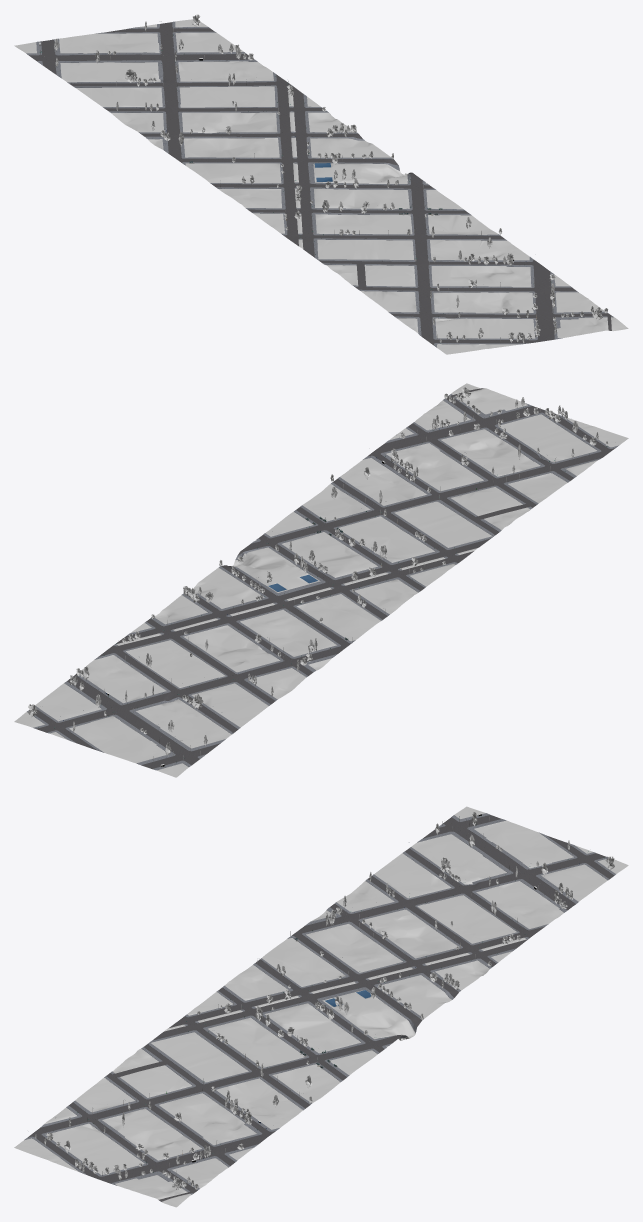
3 renders of one model, top to bottom at view 1: azimuth 30°, elevation 25°; view 2: azimuth 150°, elevation 25°; view 3: azimuth 330°, elevation 25°, orthographic. The views are drawn at different scales.
Visible parts, largest first — view 1: geopipeinodeyQM60rzr, geopipeinodek89Z3X63, geopipeinodeIxYobB8D, geopipeinodeE2gGfxA4, geopipeinodebcKXKWqB, geopipeinodepnH_ruW1, geopipeinodepkhwuyf4, geopipeinodeyndq7rub, geopipeinodemRC6xX7B, geopipeinodeXB7UEeDG, geopipeinodeoWBKhFil, geopipeinodeWr0GgdpH; view 2: geopipeinodek89Z3X63, geopipeinodeE2gGfxA4, geopipeinodeIxYobB8D, geopipeinodeyQM60rzr, geopipeinodebcKXKWqB, geopipeinodepnH_ruW1, geopipeinodepkhwuyf4, geopipeinodeyndq7rub, geopipeinodemRC6xX7B, geopipeinodeoWBKhFil, geopipeinodeWr0GgdpH, geopipeinodeXB7UEeDG; view 3: geopipeinodeIxYobB8D, geopipeinodeyQM60rzr, geopipeinodeE2gGfxA4, geopipeinodek89Z3X63, geopipeinodebcKXKWqB, geopipeinodepnH_ruW1, geopipeinodepkhwuyf4, geopipeinodeyndq7rub, geopipeinodemRC6xX7B, geopipeinodeWr0GgdpH, geopipeinodeXB7UEeDG, geopipeinodeoWBKhFil.
Boxes of the visible parts, bbox=[...] form: geopipeinodeyQM60rzr: bbox=[338, 250, 628, 354]; geopipeinodek89Z3X63: bbox=[14, 19, 292, 122]; geopipeinodeIxYobB8D: bbox=[231, 175, 520, 273]; geopipeinodeE2gGfxA4: bbox=[122, 96, 404, 196]; geopipeinodebcKXKWqB: bbox=[140, 95, 412, 189]; geopipeinodepnH_ruW1: bbox=[248, 173, 504, 272]; geopipeinodepkhwuyf4: bbox=[29, 22, 303, 114]; geopipeinodeyndq7rub: bbox=[355, 259, 612, 345]; geopipeinodemRC6xX7B: bbox=[246, 174, 506, 265]; geopipeinodeXB7UEeDG: bbox=[139, 94, 409, 190]; geopipeinodeoWBKhFil: bbox=[26, 21, 303, 114]; geopipeinodeWr0GgdpH: bbox=[353, 257, 613, 347]; geopipeinodek89Z3X63: bbox=[14, 639, 288, 777]; geopipeinodeE2gGfxA4: bbox=[131, 554, 402, 692]; geopipeinodeIxYobB8D: bbox=[244, 467, 515, 604]; geopipeinodeyQM60rzr: bbox=[353, 383, 628, 519]; geopipeinodebcKXKWqB: bbox=[133, 551, 387, 676]; geopipeinodepnH_ruW1: bbox=[240, 479, 499, 590]; geopipeinodepkhwuyf4: bbox=[29, 636, 275, 768]; geopipeinodeyndq7rub: bbox=[367, 388, 615, 514]; geopipeinodemRC6xX7B: bbox=[243, 477, 501, 592]; geopipeinodeoWBKhFil: bbox=[27, 635, 277, 770]; geopipeinodeWr0GgdpH: bbox=[363, 394, 618, 509]; geopipeinodeXB7UEeDG: bbox=[127, 553, 389, 677]; geopipeinodeIxYobB8D: bbox=[127, 973, 396, 1120]; geopipeinodeyQM60rzr: bbox=[14, 1059, 288, 1207]; geopipeinodeE2gGfxA4: bbox=[240, 891, 512, 1039]; geopipeinodek89Z3X63: bbox=[354, 806, 628, 944]; geopipeinodebcKXKWqB: bbox=[255, 903, 514, 1035]; geopipeinodepnH_ruW1: bbox=[144, 987, 402, 1108]; geopipeinodepkhwuyf4: bbox=[368, 815, 614, 948]; geopipeinodeyndq7rub: bbox=[28, 1066, 275, 1201]; geopipeinodemRC6xX7B: bbox=[141, 985, 397, 1110]; geopipeinodeWr0GgdpH: bbox=[24, 1071, 279, 1194]; geopipeinodeXB7UEeDG: bbox=[253, 902, 515, 1038]; geopipeinodeoWBKhFil: bbox=[365, 813, 615, 948].
Bounding box in the file's own units: 261 × 1145 × 36.32.
